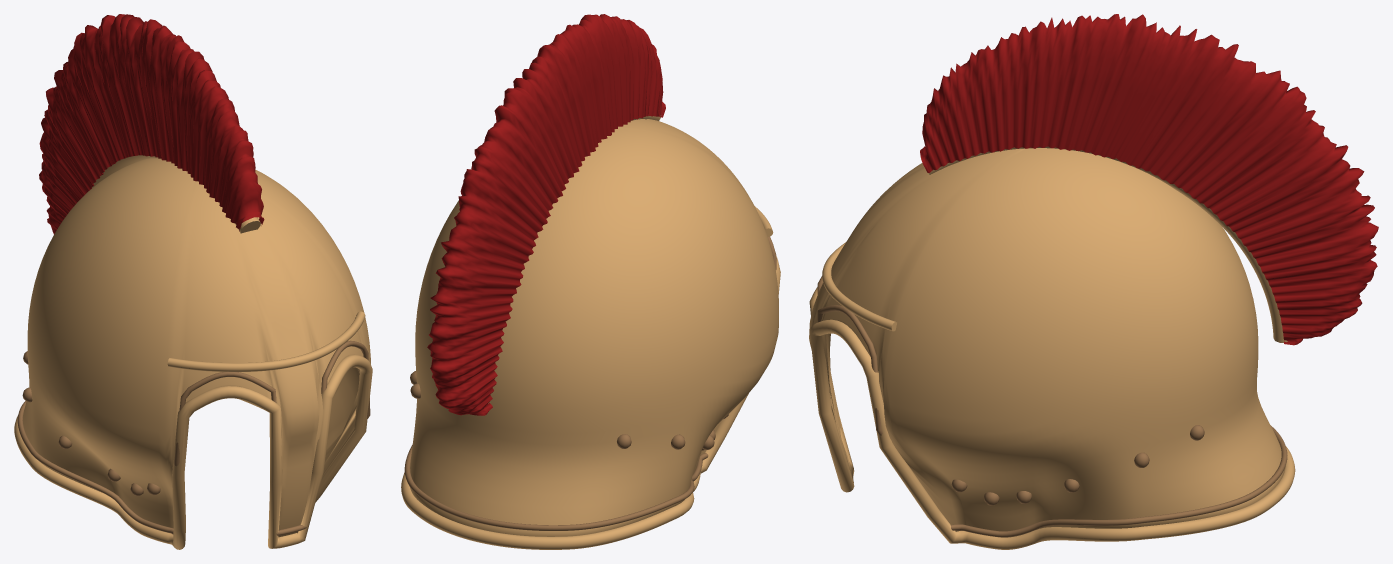
The model's file is helmet.glb.
The picture shows the model from 3 angles, left to right: view 1: azimuth 30°, elevation 25°; view 2: azimuth 150°, elevation 25°; view 3: azimuth 270°, elevation 25°; orthographic projection. The views are drawn at different scales.
Parts seen in each view (by area): view 1: Helmet_Bronze, Helmet_Crest; view 2: Helmet_Bronze, Helmet_Crest; view 3: Helmet_Bronze, Helmet_Crest.
Part boxes in pixels (<box>): Helmet_Bronze: <box>14,155,372,549</box>; Helmet_Crest: <box>39,14,264,234</box>; Helmet_Bronze: <box>401,115,780,549</box>; Helmet_Crest: <box>427,14,665,415</box>; Helmet_Bronze: <box>809,146,1295,549</box>; Helmet_Crest: <box>920,14,1378,345</box>.
Bounding box in the file's own units: 0.184 × 0.2857 × 0.2963.
